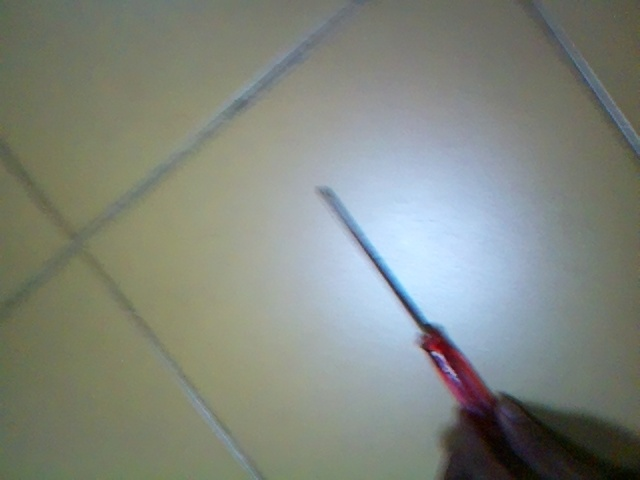redskrew: (316, 183, 499, 415)
